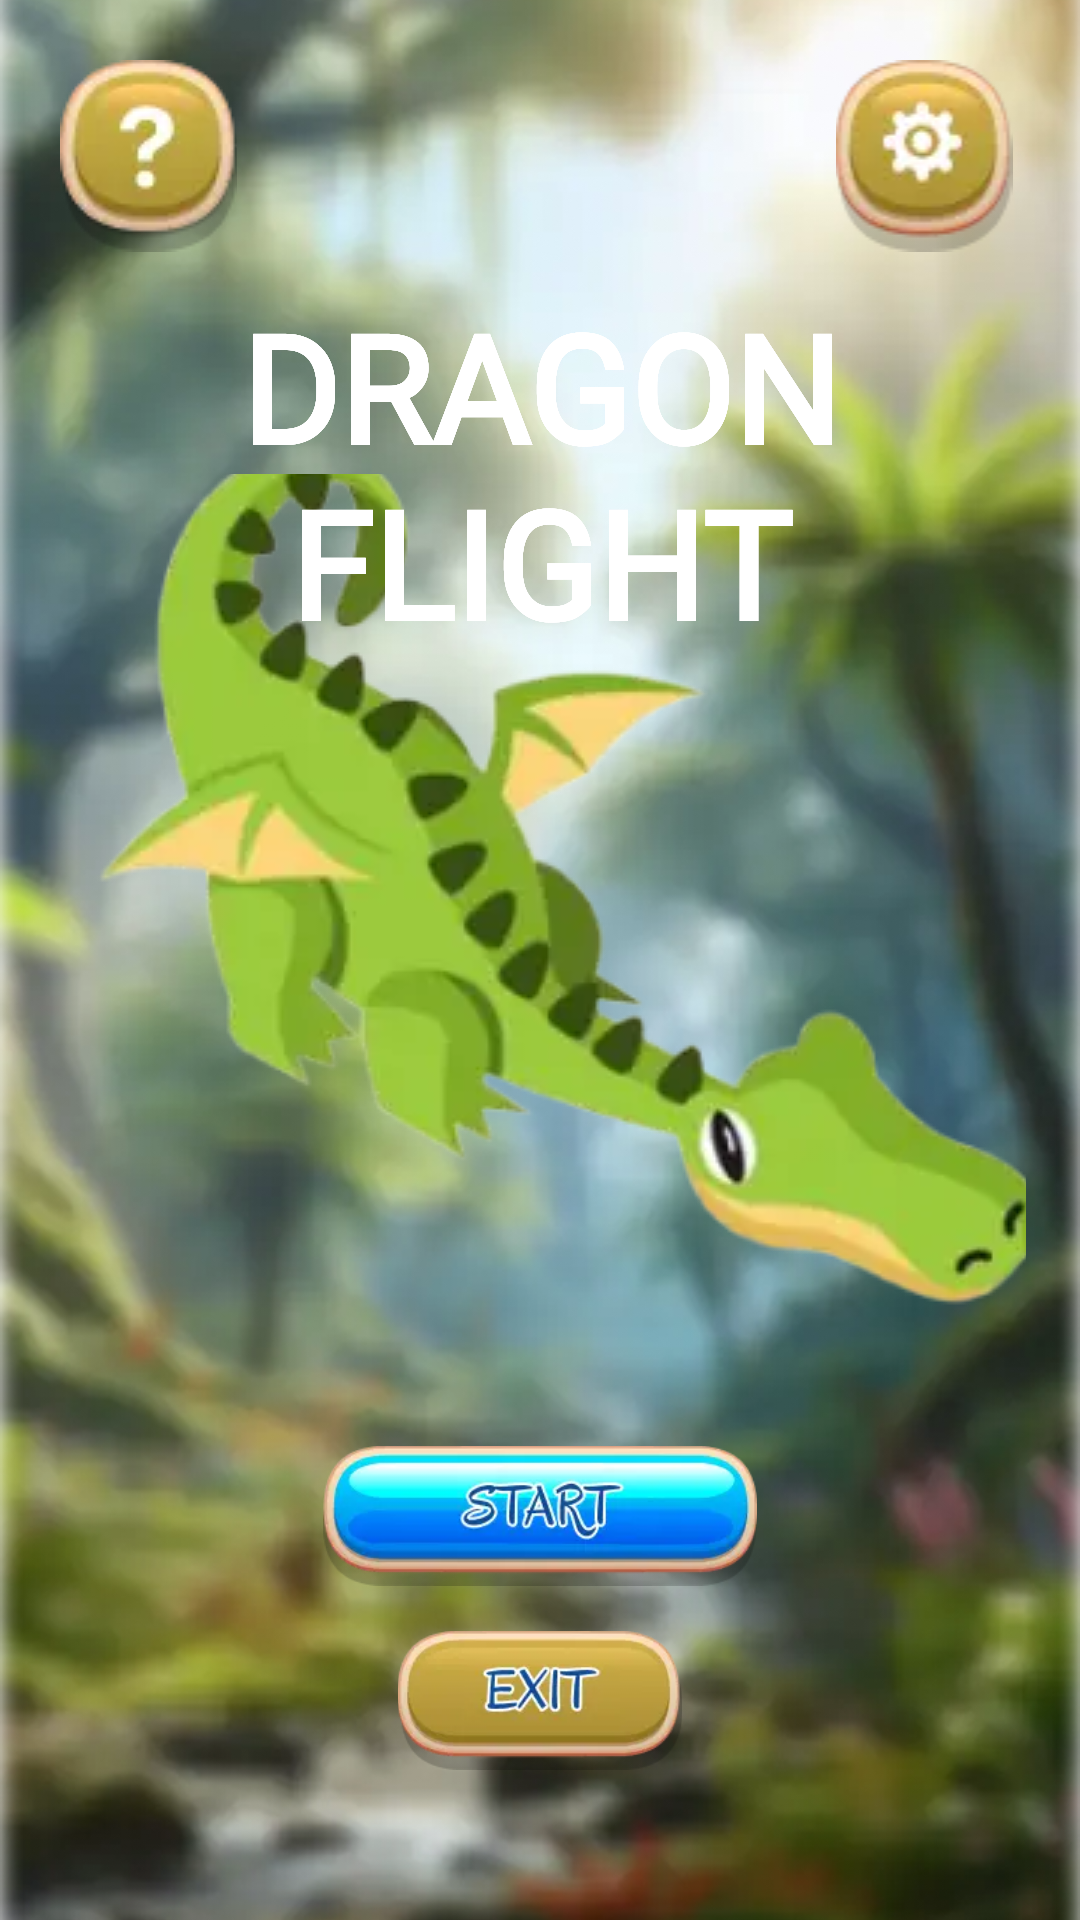

Icons on this 1080*1920 Android screen, each with the point to tap as point (x, y):
rules: point (148, 156)
settings: point (924, 156)
